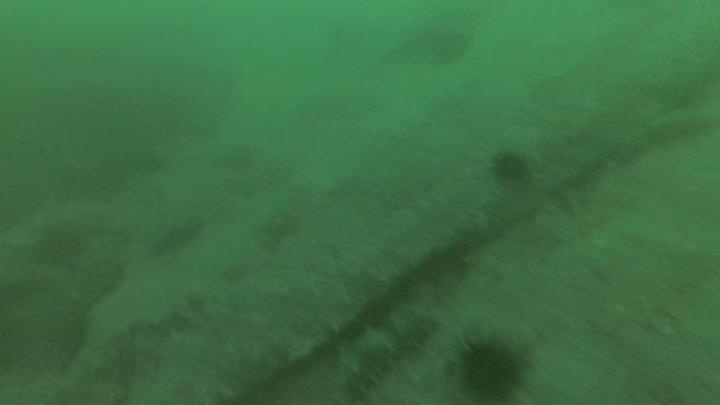echinus: (453, 334, 528, 403), (422, 22, 473, 67), (490, 149, 532, 185)
holothurian: (334, 307, 437, 400)
